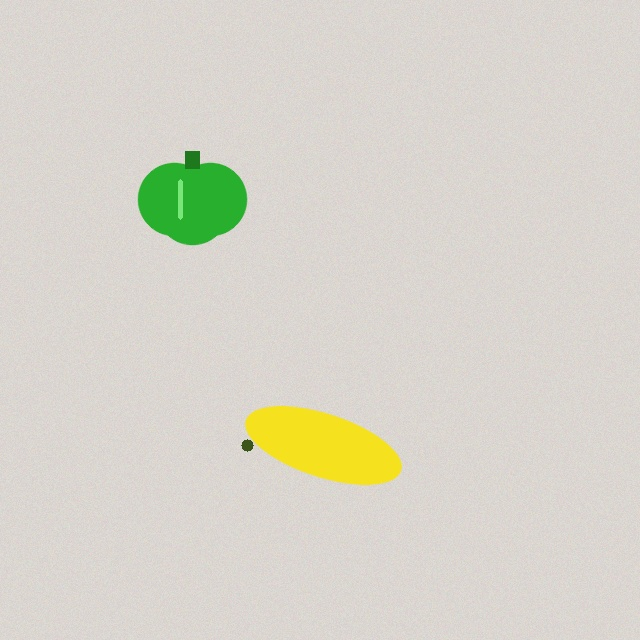Fresh banana: (238, 407, 408, 483)
Fresh bell pepper: (138, 151, 246, 244)
